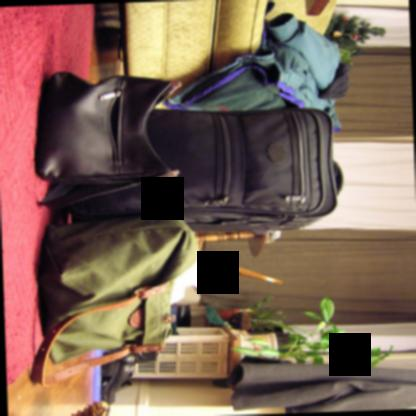handbag: (31, 215, 199, 385), (35, 70, 185, 214)
suitcase: (67, 107, 340, 235)
